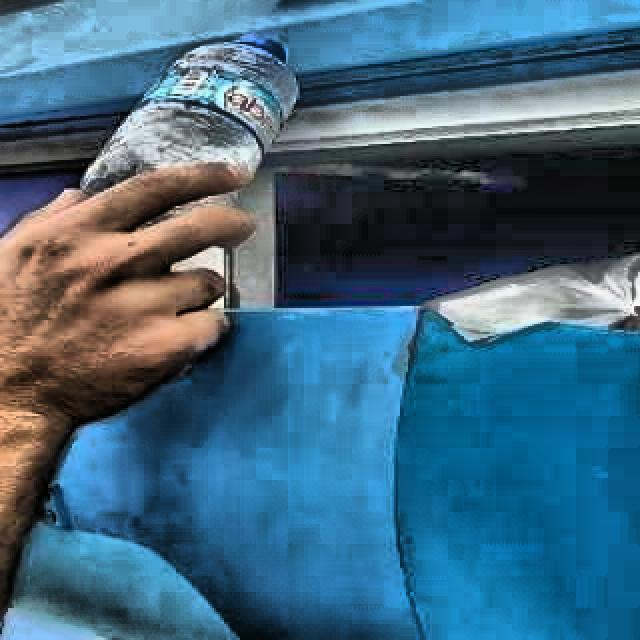plastic: (80, 36, 299, 191)
